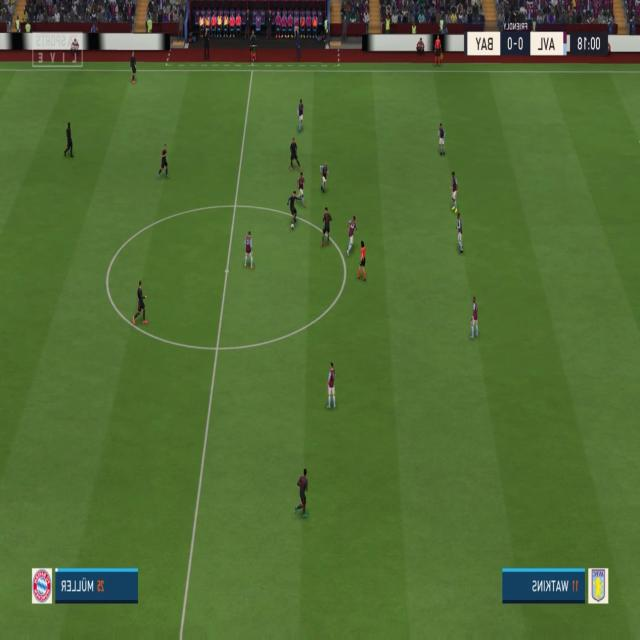Ball: (291, 223, 294, 230)
Referee: (356, 242, 367, 282)
Team-A: (295, 468, 310, 518), (133, 281, 145, 325), (287, 188, 300, 228), (320, 209, 333, 247), (157, 145, 171, 180), (62, 121, 74, 159), (289, 140, 300, 172), (128, 54, 136, 84)
Team-H: (469, 295, 481, 339), (326, 362, 336, 411), (242, 230, 254, 270), (344, 215, 356, 253), (318, 160, 330, 193), (450, 171, 458, 214), (455, 214, 464, 252), (296, 171, 305, 206), (437, 122, 446, 156), (296, 101, 304, 133)
